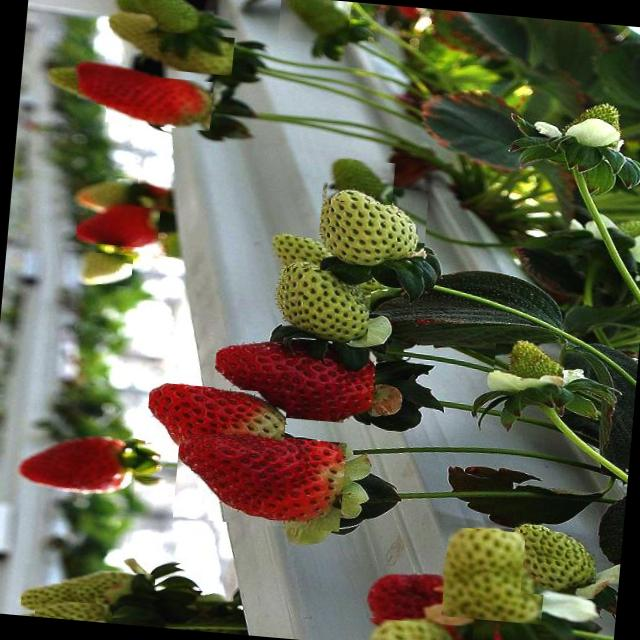ripe: (172, 428, 346, 532), (211, 337, 377, 425), (145, 382, 288, 455), (15, 428, 138, 502), (364, 568, 477, 640), (104, 72, 214, 130), (75, 202, 160, 248), (76, 66, 149, 108)
unripe: (316, 182, 428, 278), (442, 526, 548, 624), (20, 563, 156, 620), (281, 267, 373, 344), (520, 528, 600, 600), (492, 338, 566, 393), (125, 0, 215, 42), (72, 172, 138, 224), (326, 156, 396, 204), (277, 0, 351, 45), (162, 31, 235, 76), (61, 250, 133, 286), (367, 617, 473, 640), (107, 8, 158, 50), (261, 233, 322, 268), (34, 598, 112, 620)
